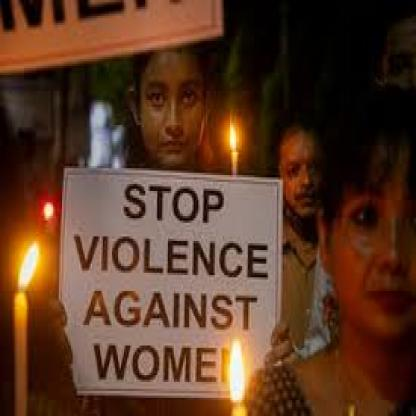BANNER: (56, 168, 281, 416)
